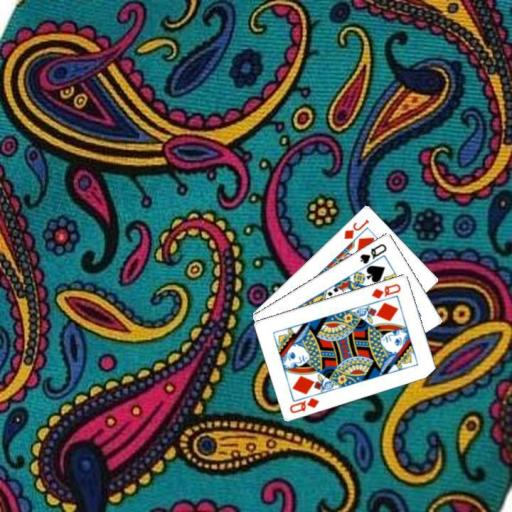JD: (341, 216, 371, 241)
QD: (287, 394, 321, 415), (369, 280, 403, 300)
QS: (357, 241, 388, 266)
